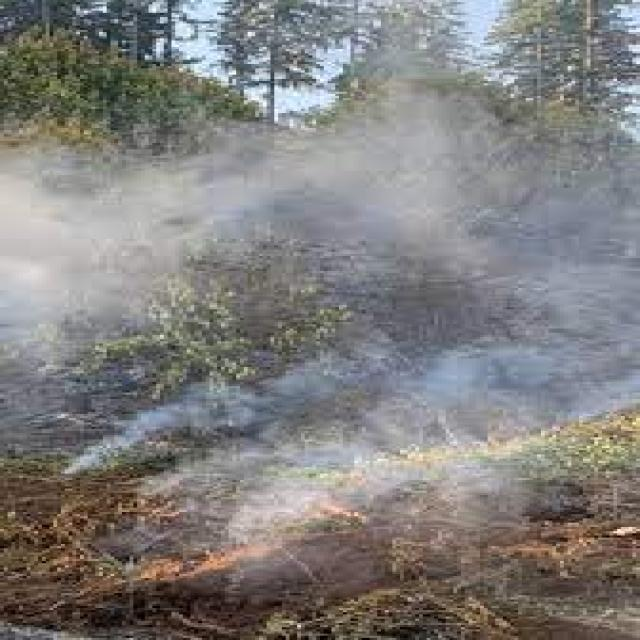Smoke: (0, 82, 513, 354), (52, 374, 568, 561), (262, 33, 580, 305)
